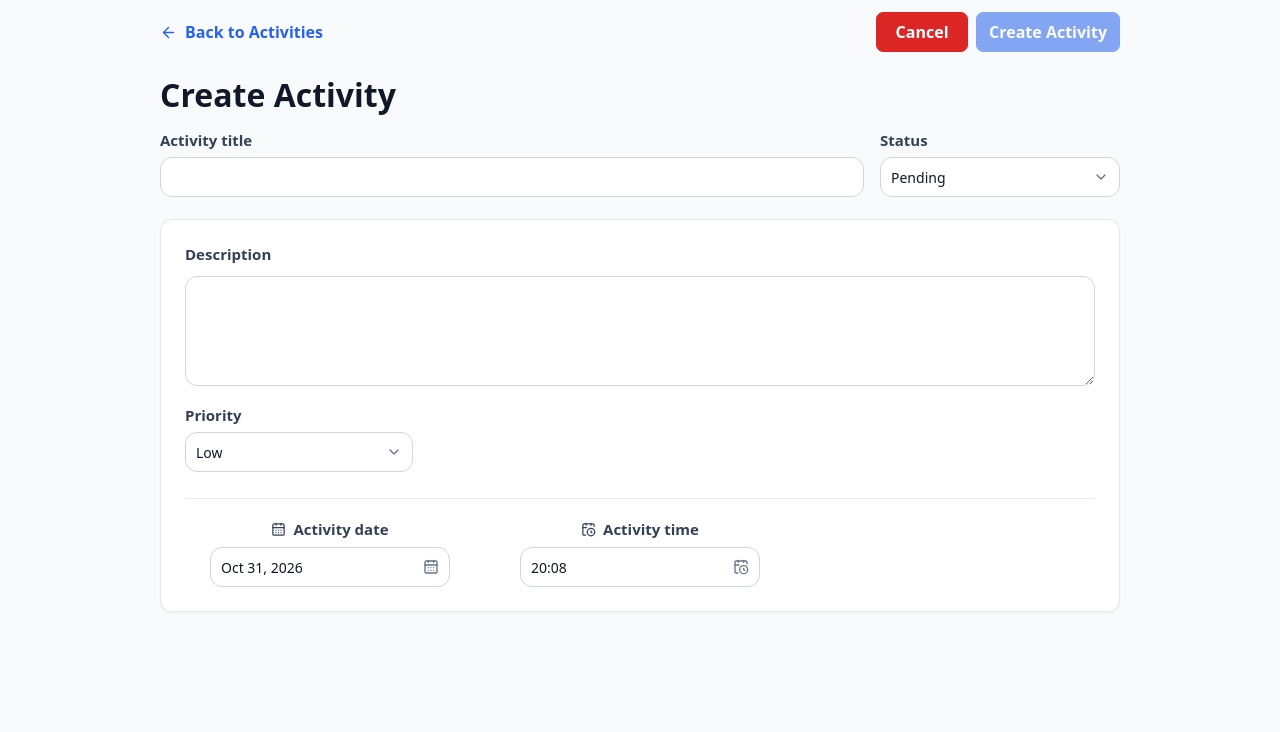
it: ActivityEditor › shows the fallback message when a non-Error create failure is returned
In the field labelled "Activity title": coordinates (512, 177) [160,157,864,197], type "Fail with fallback"
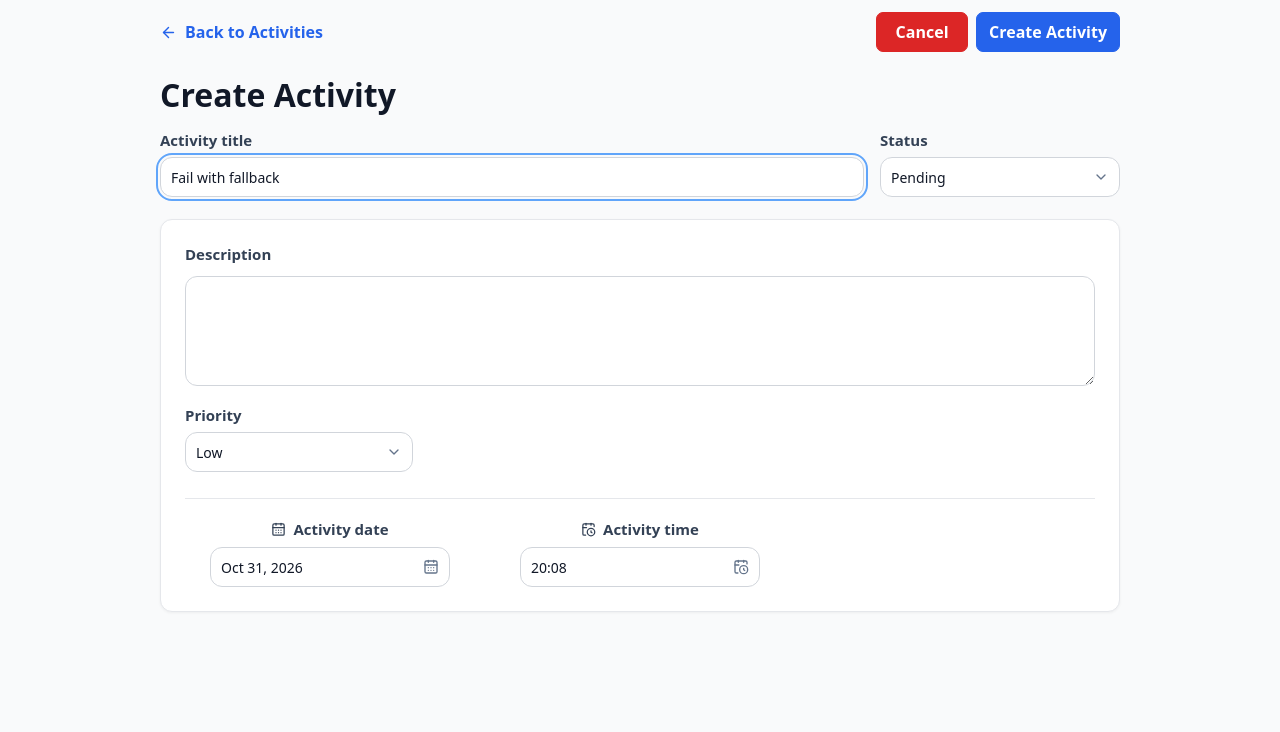
Click the button "Create Activity": coordinates (1048, 32) [976,12,1120,52]
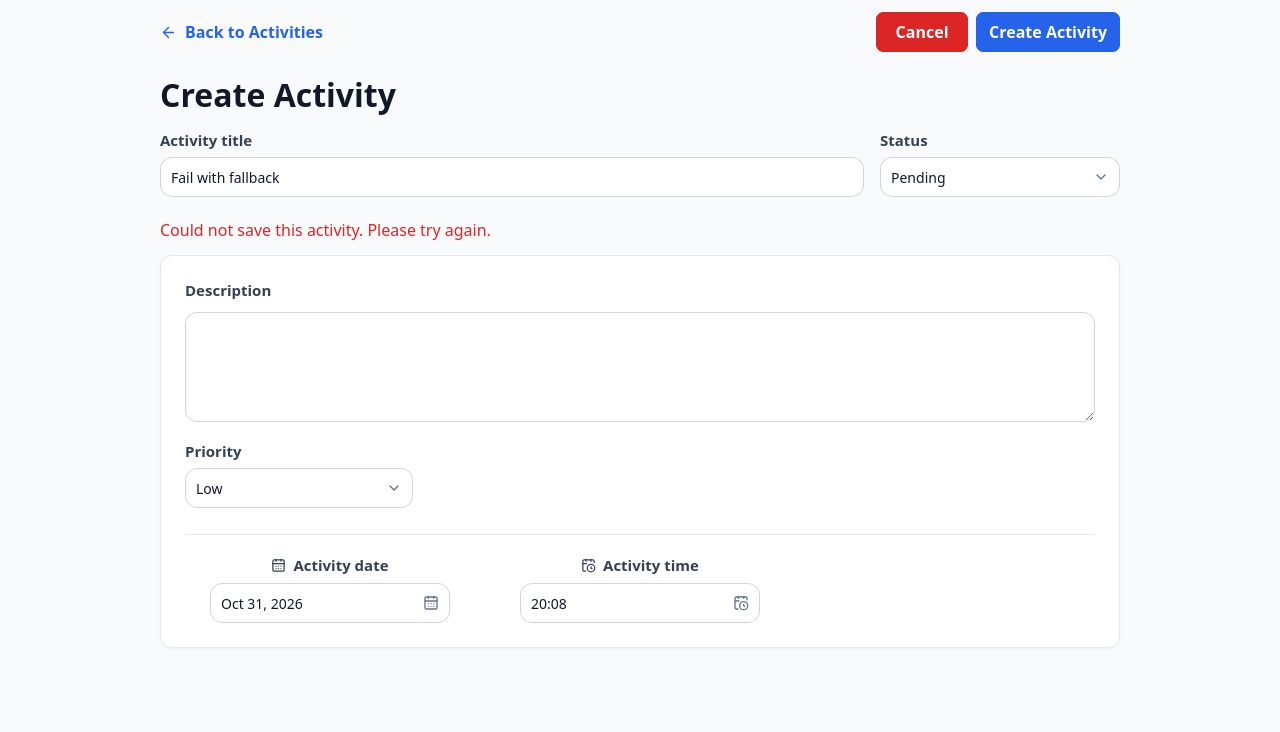
Check: the message reads "Could not save this activity. Please try again.", box [160,219,491,241]
